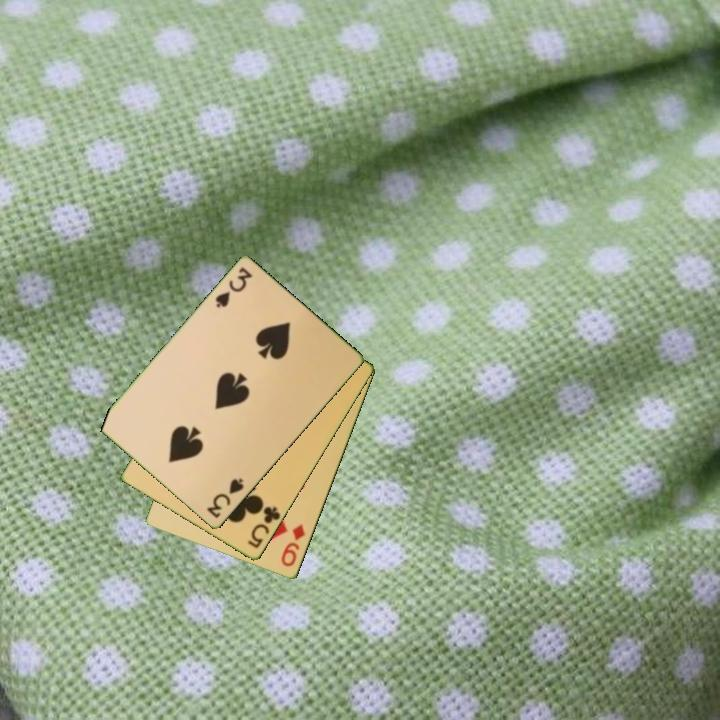3s: (203, 475, 247, 522), (212, 264, 255, 311)
5c: (244, 503, 283, 552)
9d: (277, 521, 308, 570)
